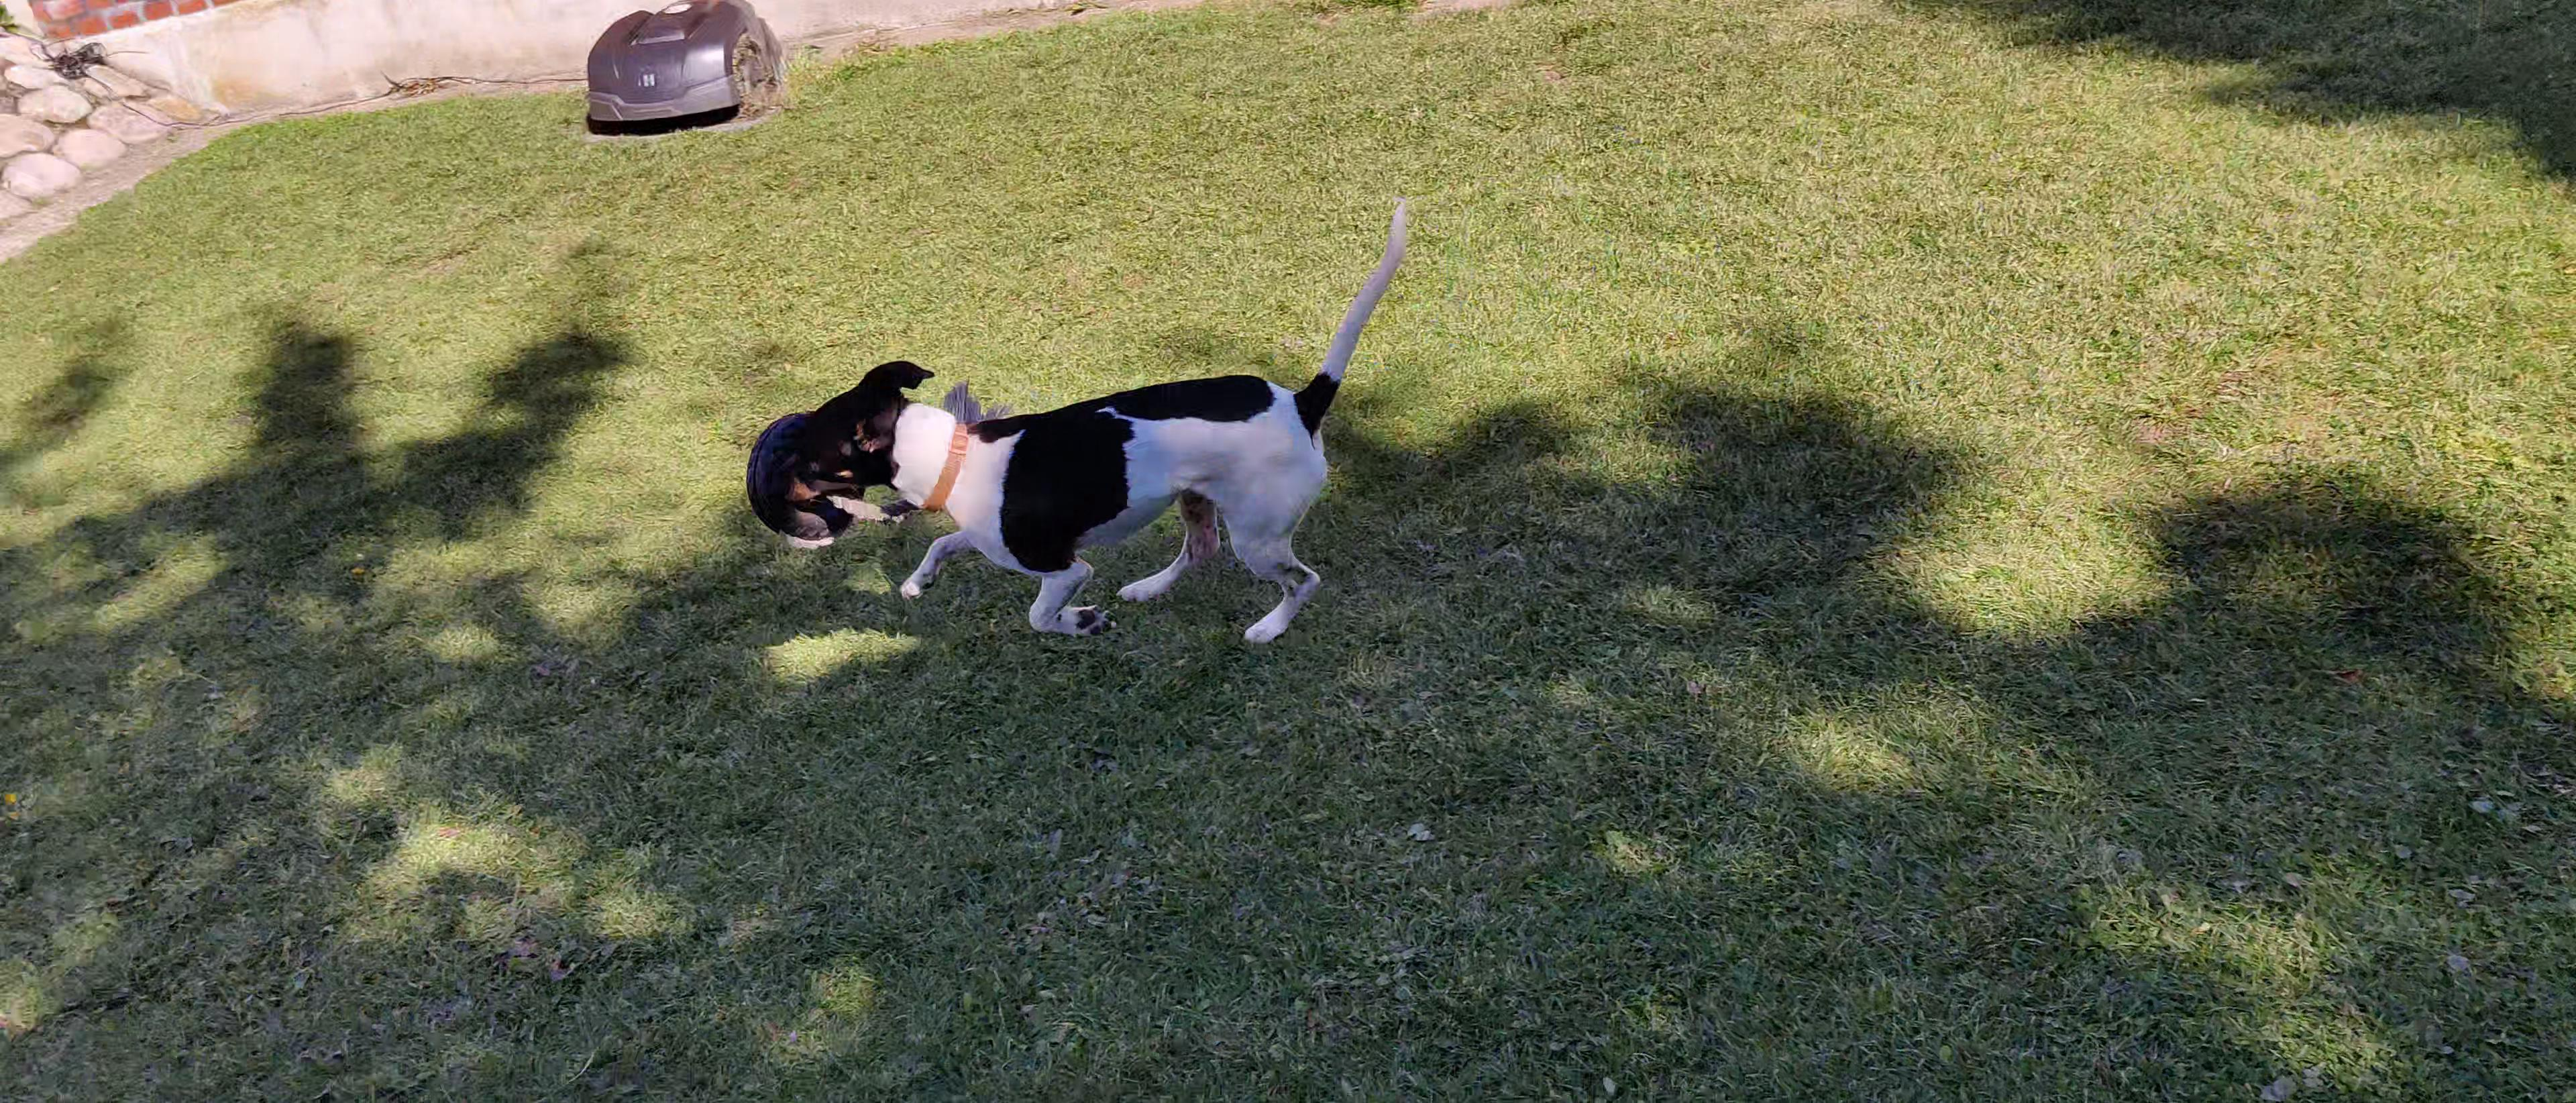Dog: (759, 197, 1423, 654)
